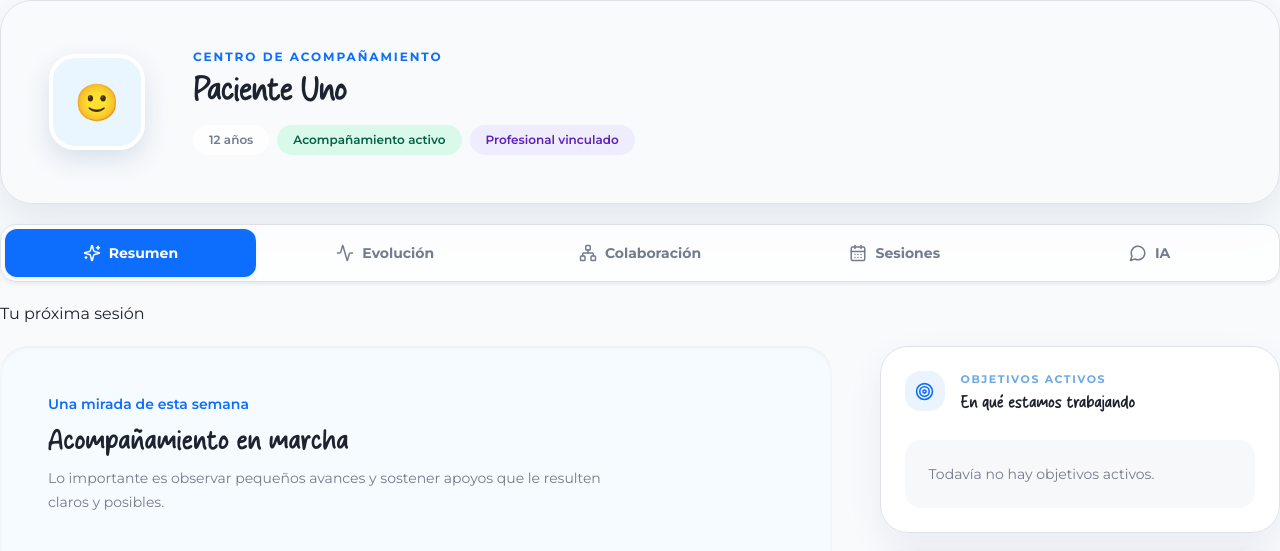
PertenecienteDetail con role="professional" › summaryTop va arriba del Resumen y solo ahí
Click the button "Evolución" at x=385, y=253, box 260,229 -> 511,277
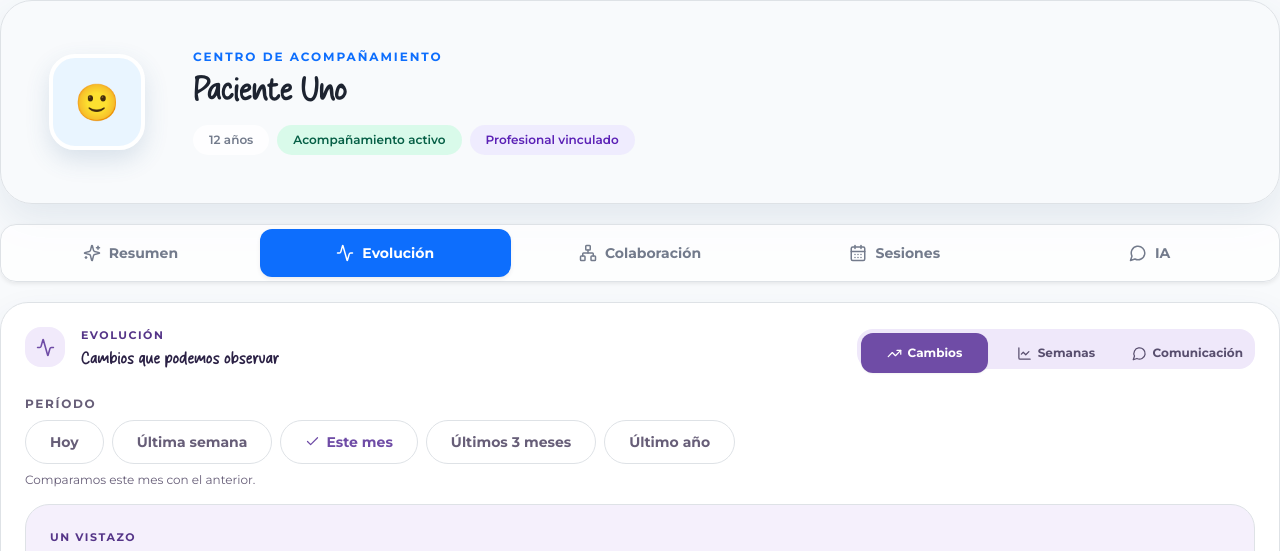
Expected: the text "Tu próxima sesión" is gone
